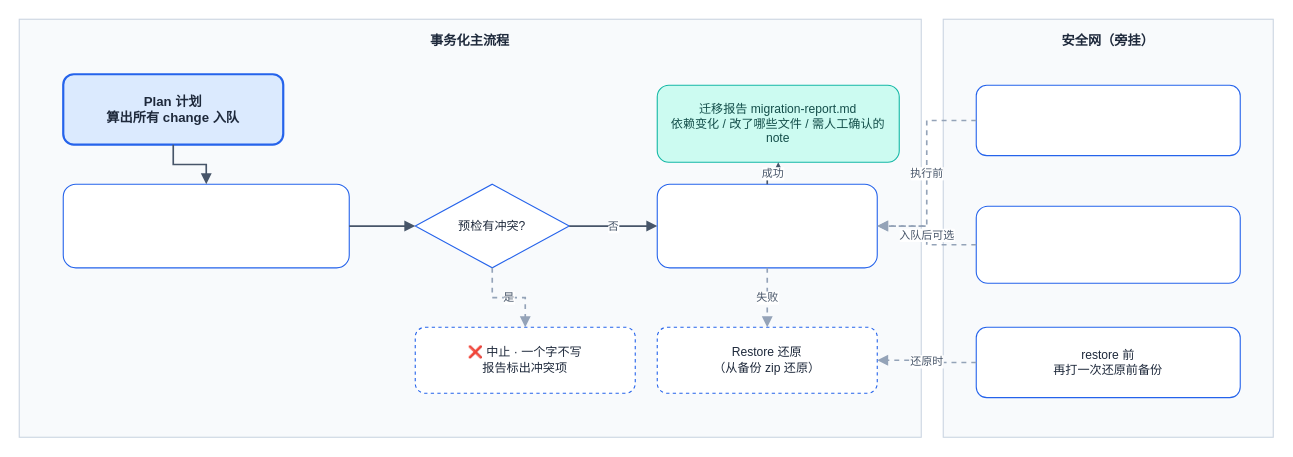
This 1293x457 diagram has some shape labels left out. Here are the shapes that lost their labels. From the top down, the centre of each, then its label:
At pixel 1107 120: "备份 zip 感知 .gitignore，不带 node_modules".
At pixel 205 225: "ChangeQueue 依赖升级 / 脚本迁移 / vite 脚手架 AST codemod / 类型生成".
At pixel 766 225: "Apply 执行 预检过才落盘 任一步失败即停".
At pixel 1107 244: "--dry-run 试跑 跑完不写盘，输出 change 清单 + skip 项".
